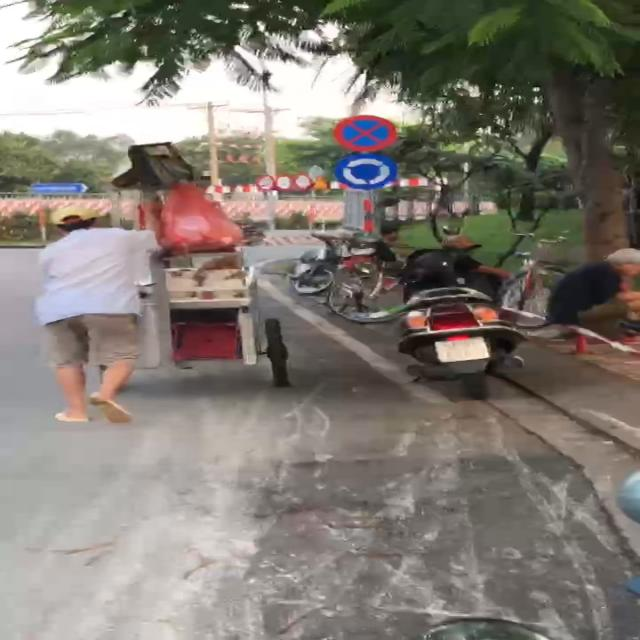Bien bao cam dung xe va do xe: (329, 113, 399, 155)
Bien bao noi giao nhau chay theo vong xuyen: (330, 154, 403, 194)
